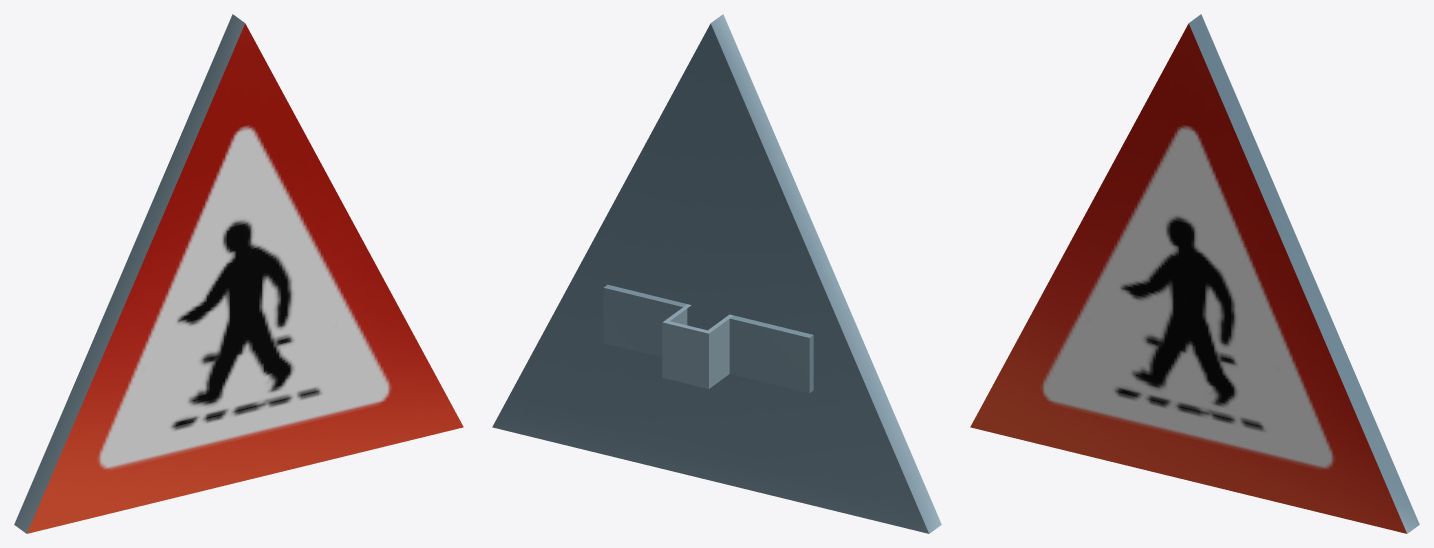
File: Sign20Austrian.fbx
The picture shows the model from 3 angles, left to right: view 1: azimuth 30°, elevation 25°; view 2: azimuth 150°, elevation 25°; view 3: azimuth 330°, elevation 25°; orthographic projection.
Parts seen in each view (by area): view 1: Sign20Austrian; view 2: Sign20Austrian; view 3: Sign20Austrian.
Boxes of the visible parts, left/top/right/bottom form: Sign20Austrian: left=14, top=14, right=463, bottom=533; Sign20Austrian: left=492, top=14, right=941, bottom=533; Sign20Austrian: left=970, top=14, right=1419, bottom=533.
Size of the model in its own units: 1 by 1 by 0.1489.
